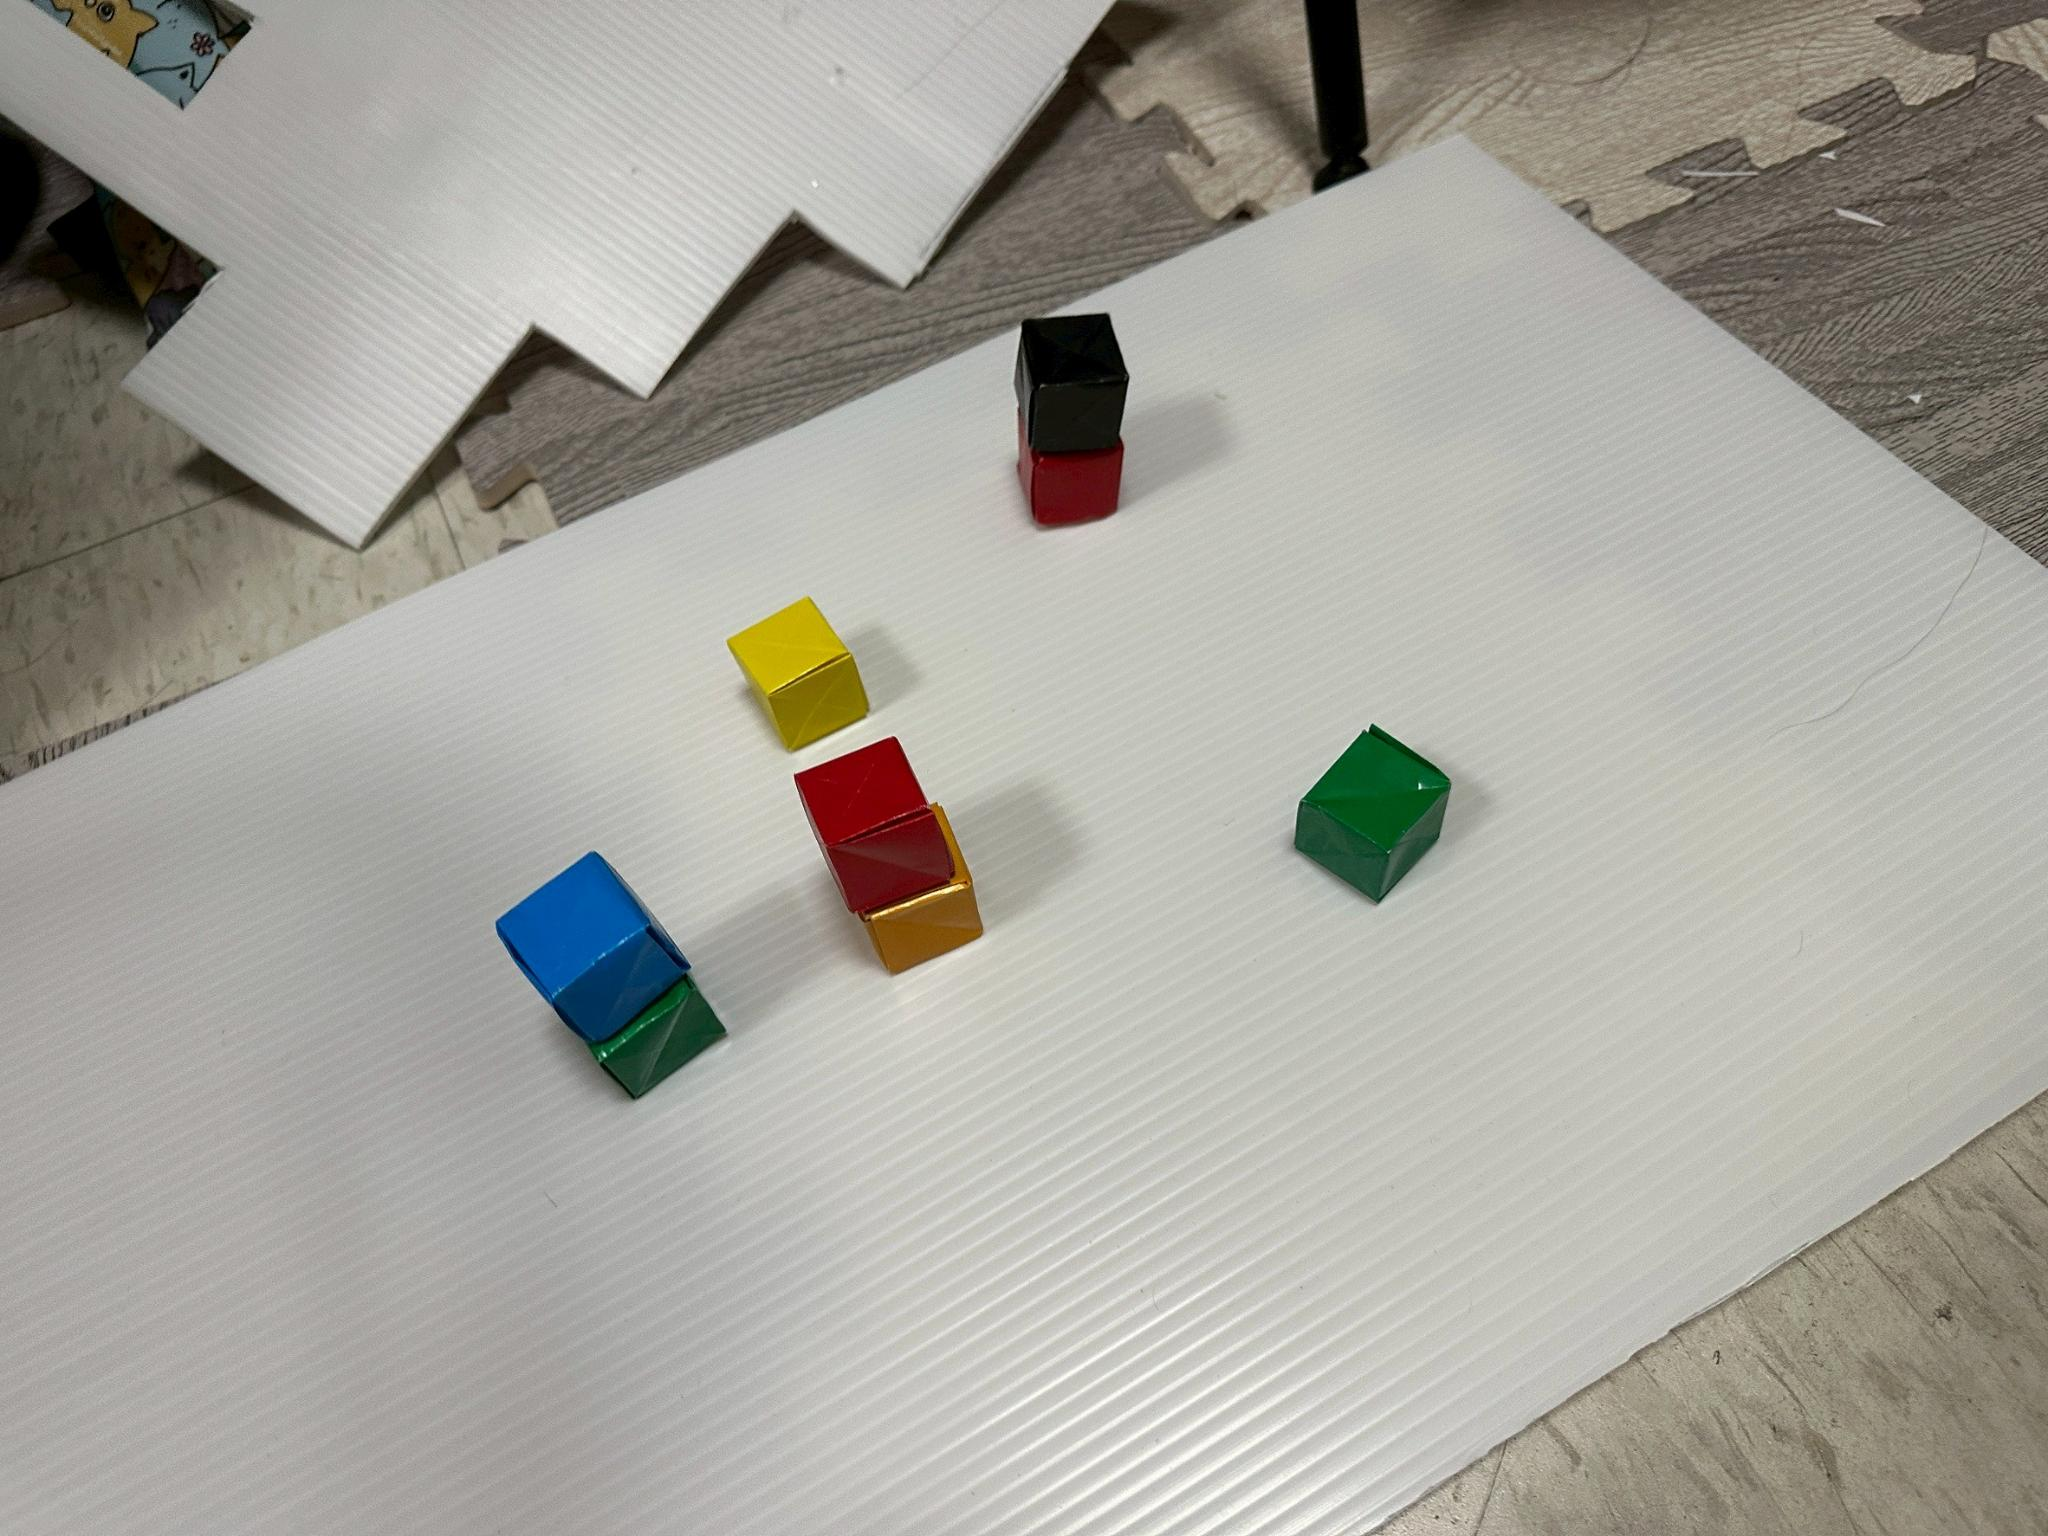cube: (497, 854, 685, 1041), (795, 737, 955, 916), (1293, 726, 1450, 900), (727, 599, 868, 749), (858, 805, 982, 975), (589, 976, 724, 1099), (1018, 315, 1127, 453), (1018, 407, 1124, 526)
